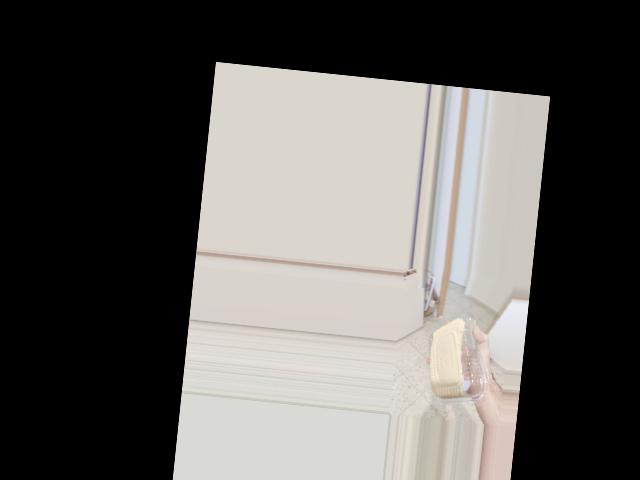cheese: (432, 333, 477, 411)
